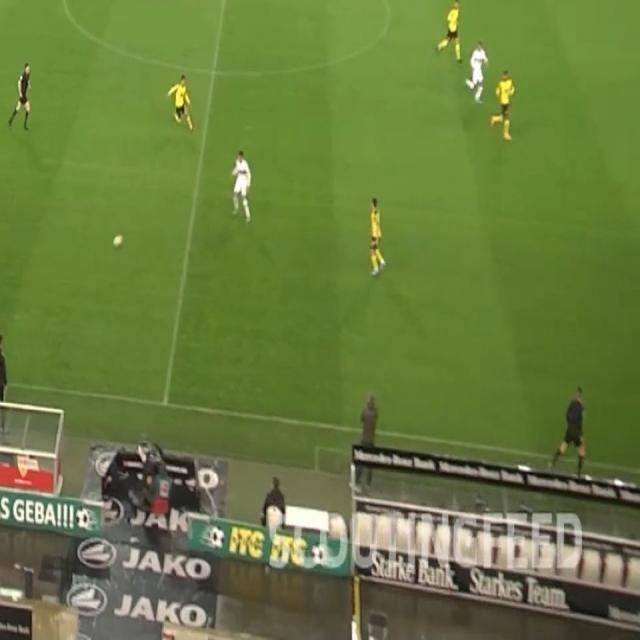ball: (112, 231, 123, 250)
